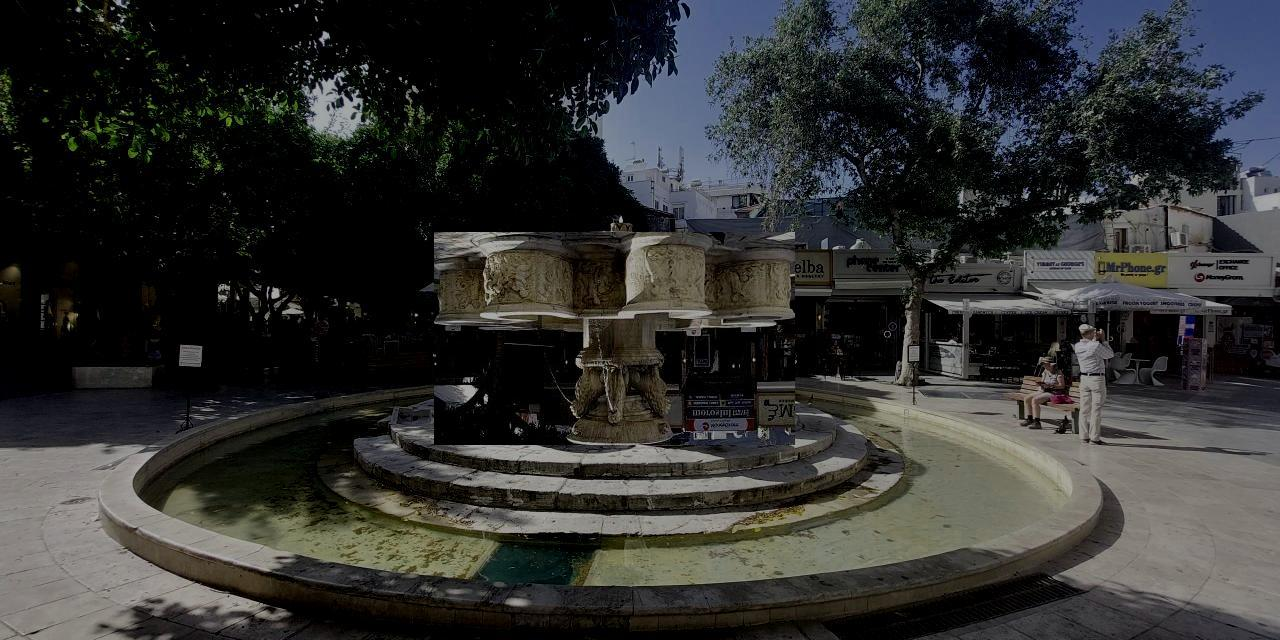Liontaria: (435, 233, 796, 446)
